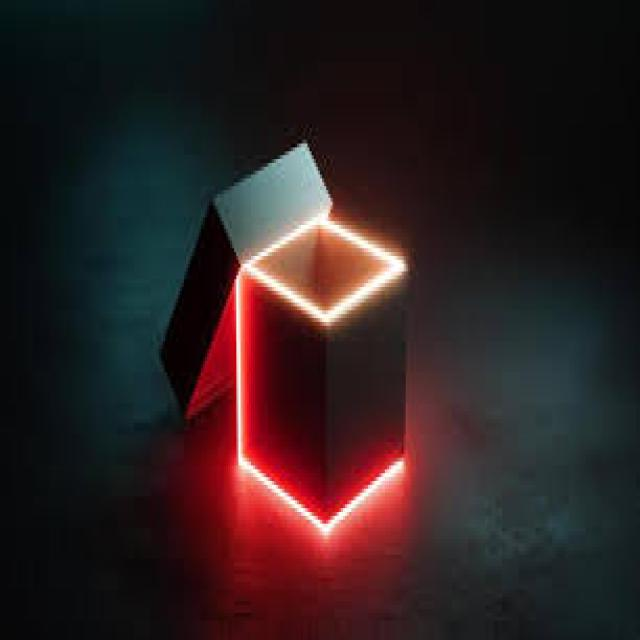box: (162, 144, 405, 535), (237, 218, 405, 531)
